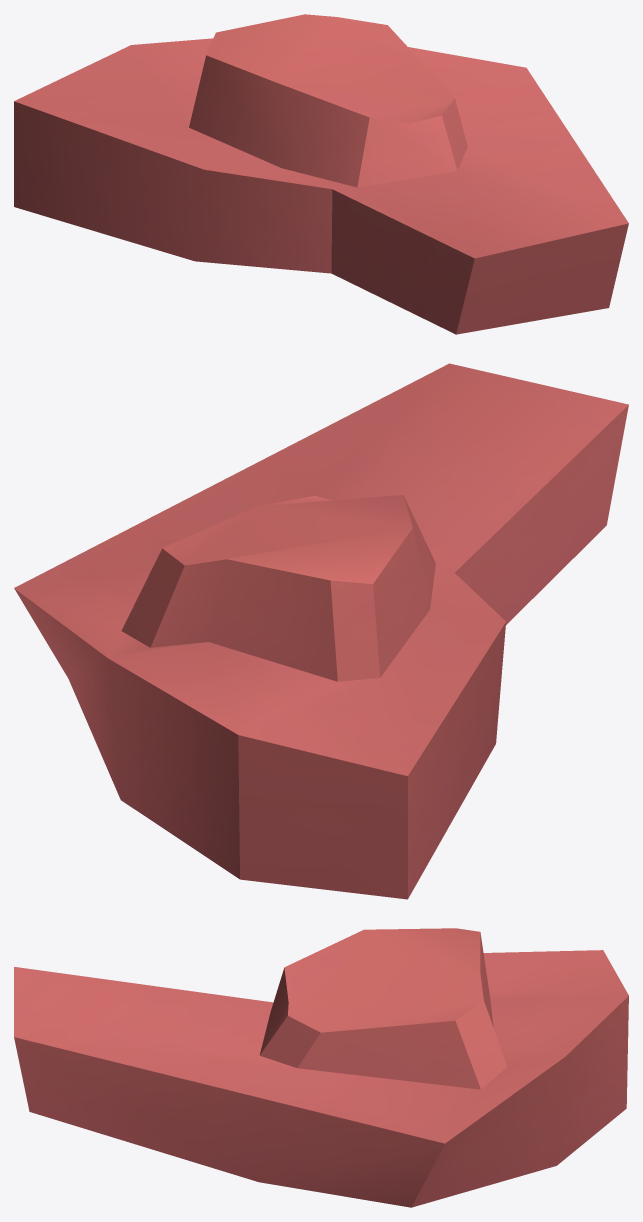
Rendered from Stone2.fbx.
3 renders of one model, top to bottom at view 1: azimuth 30°, elevation 25°; view 2: azimuth 150°, elevation 25°; view 3: azimuth 270°, elevation 25°, orthographic. The views are drawn at different scales.
Parts seen in each view (by area): view 1: Stone2; view 2: Stone2; view 3: Stone2.
Boxes of the visible parts, x1,y1,x2,y2 form: Stone2: [14, 14, 628, 334]; Stone2: [14, 363, 628, 899]; Stone2: [14, 928, 628, 1207].
Bounding box in the file's own units: 1.54 × 0.6803 × 2.13.
